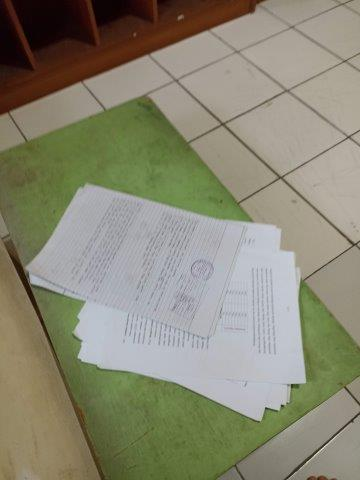kertas: (25, 182, 307, 420)
